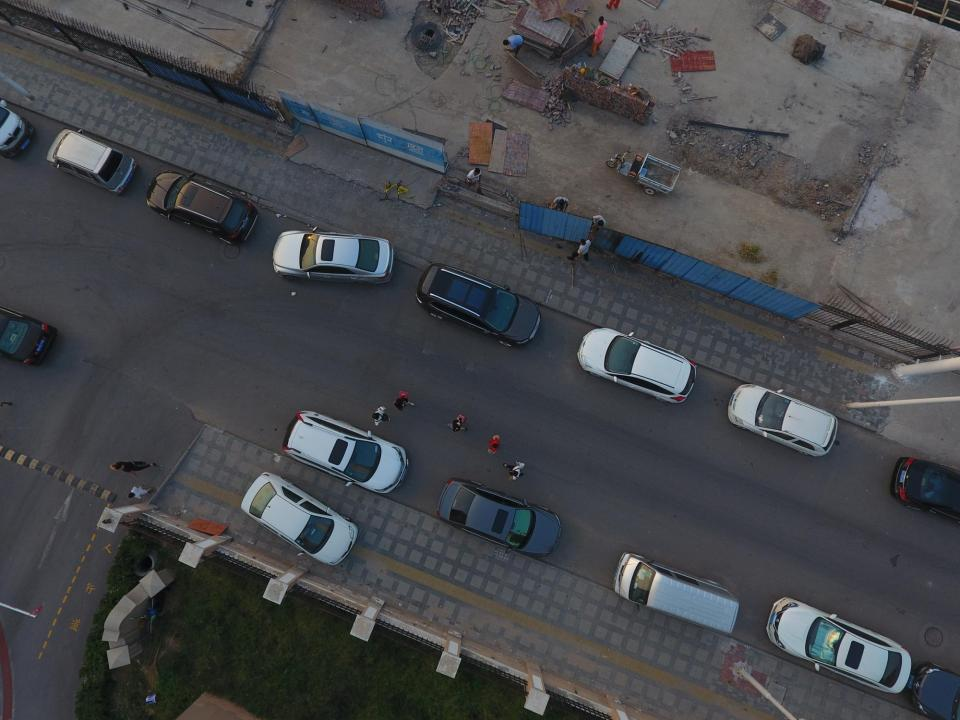car: (764, 598, 909, 694), (241, 470, 358, 567), (416, 262, 542, 349), (435, 479, 561, 566), (282, 410, 409, 495), (578, 328, 698, 404), (146, 170, 257, 250), (726, 382, 838, 458), (271, 225, 394, 286), (891, 459, 960, 525), (0, 307, 56, 367), (908, 660, 960, 720)
van: (615, 553, 741, 640), (46, 128, 138, 194)
